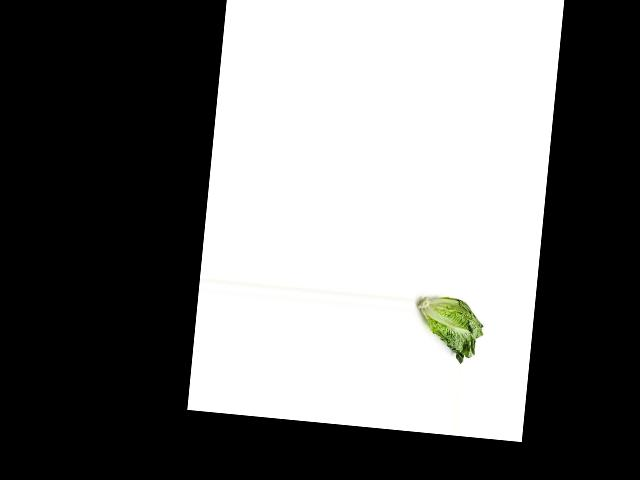lettuce: (414, 292, 489, 365)
